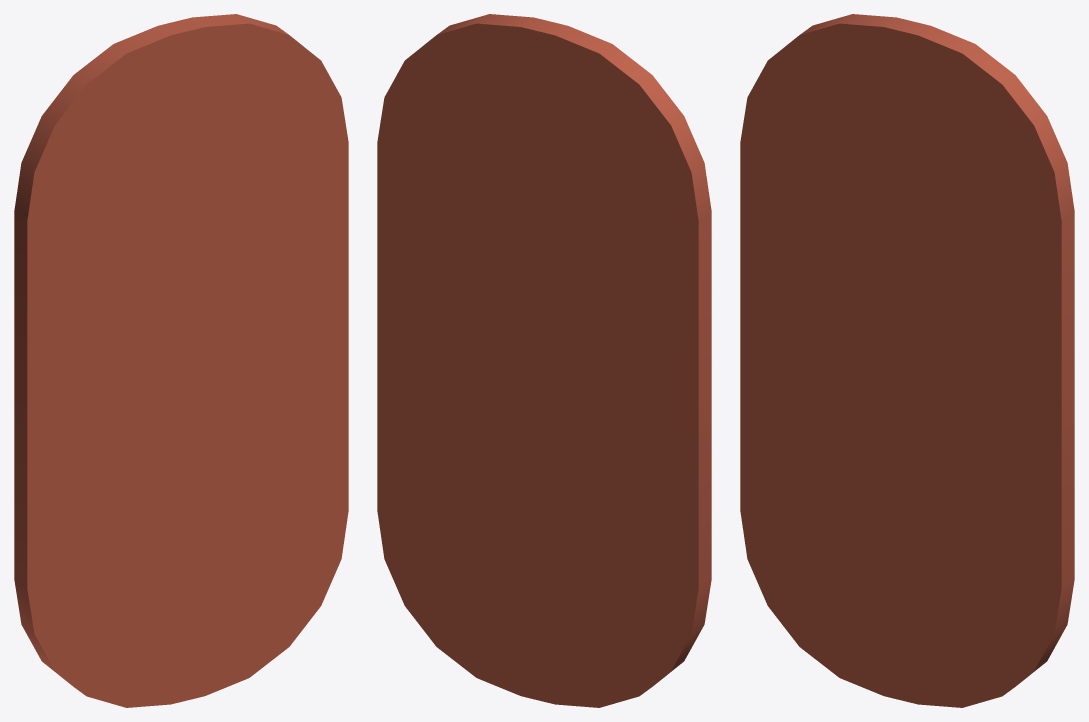
File: screen.fbx
The picture shows the model from 3 angles, left to right: view 1: azimuth 30°, elevation 25°; view 2: azimuth 150°, elevation 25°; view 3: azimuth 330°, elevation 25°; orthographic projection.
Parts seen in each view (by area): view 1: Cube; view 2: Cube; view 3: Cube.
Part boxes in pixels (<box>): Cube: <box>14,14,348,707</box>; Cube: <box>377,14,711,707</box>; Cube: <box>740,14,1074,707</box>.
Size of the model in its own units: 234 by 465 by 16.46.
